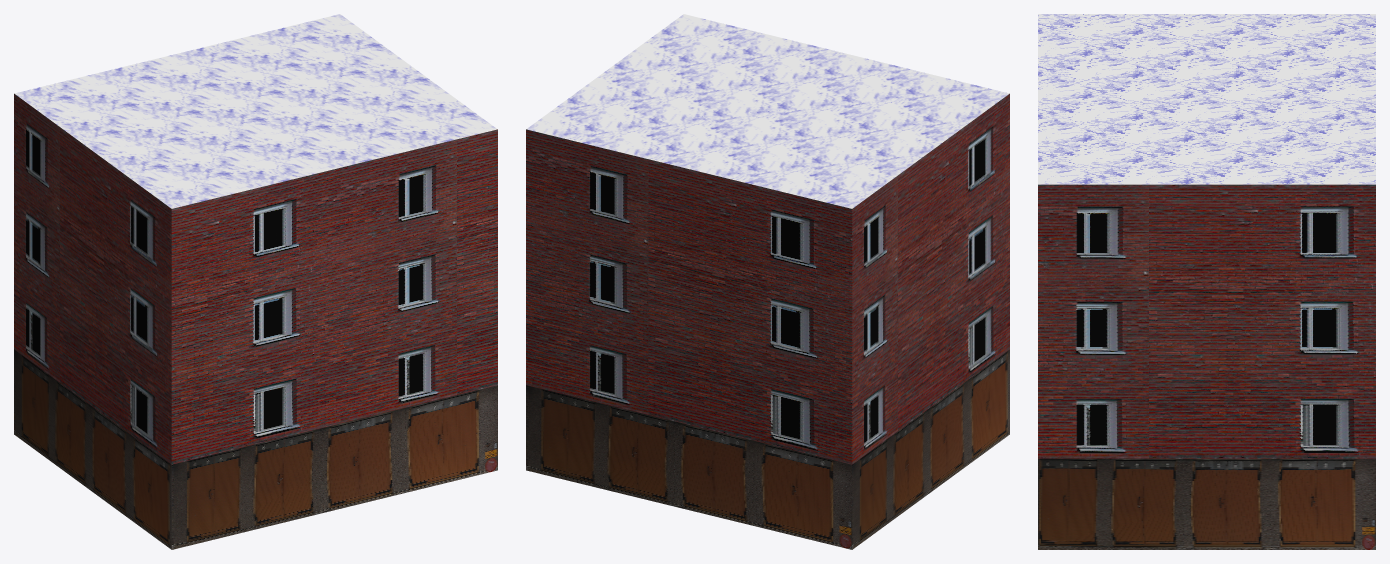
Rendered from kp_template_cube_building_12x10x12.glb.
3 views of the same model, side by side, from view 1: azimuth 30°, elevation 25°; view 2: azimuth 150°, elevation 25°; view 3: azimuth 270°, elevation 25° (orthographic). The views are drawn at different scales.
Parts seen in each view (by area): view 1: building-col; view 2: building-col; view 3: building-col.
Part boxes in pixels (x1=…): building-col: x1=14, y1=14, x2=497, y2=549; building-col: x1=526, y1=14, x2=1009, y2=549; building-col: x1=1038, y1=14, x2=1375, y2=549.
Bounding box in the file's own units: 12 × 12 × 10.05.
Materials: 3 (3 with a texture image).
